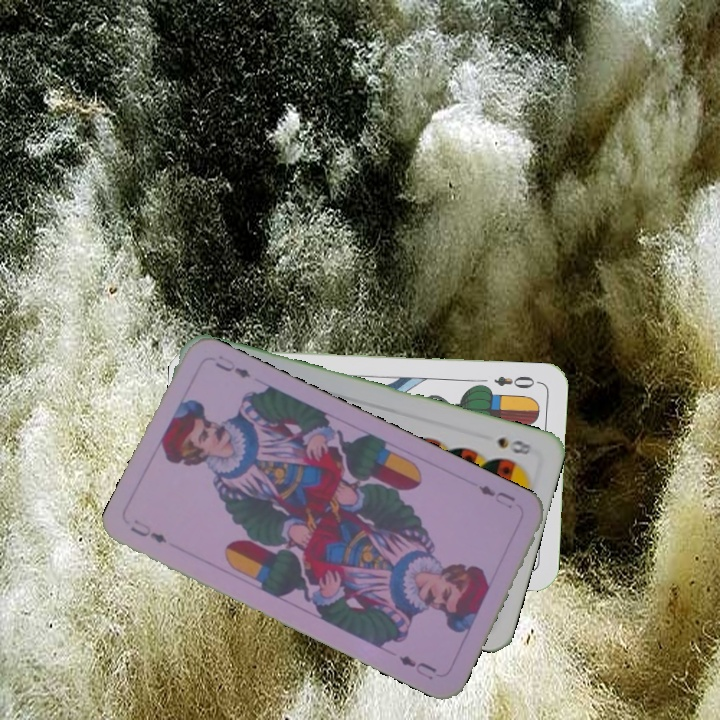EO: (490, 371, 542, 392)
EU: (474, 480, 518, 511), (126, 515, 170, 546)
S8: (493, 433, 538, 459)
